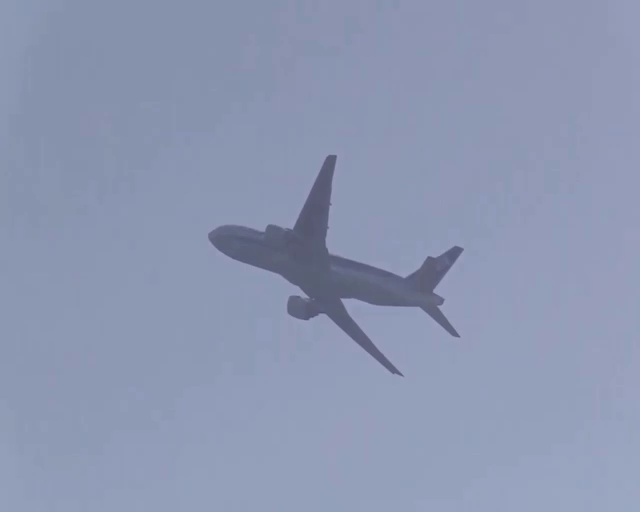AIRPLANE: (208, 151, 465, 386)
